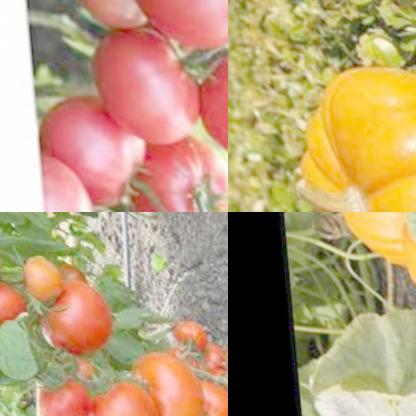pumpkin: (273, 41, 416, 212), (324, 212, 416, 266)
tomato: (87, 22, 204, 147), (42, 91, 156, 206), (123, 124, 228, 212), (32, 276, 107, 360), (122, 342, 200, 416), (190, 32, 228, 168), (26, 148, 104, 212), (120, 0, 228, 46), (29, 346, 94, 416), (76, 366, 160, 416), (9, 245, 57, 303), (182, 367, 228, 416), (62, 0, 144, 24), (0, 272, 29, 339), (206, 325, 228, 412), (168, 309, 208, 355)
